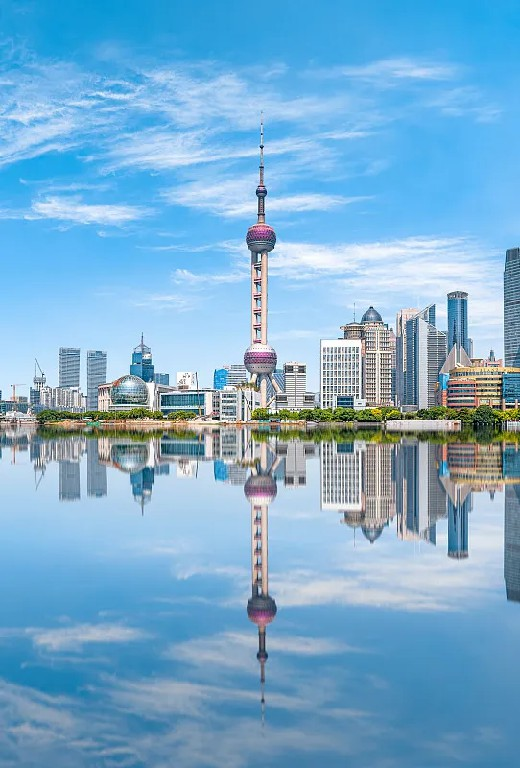Oriental: (243, 114, 281, 410)
